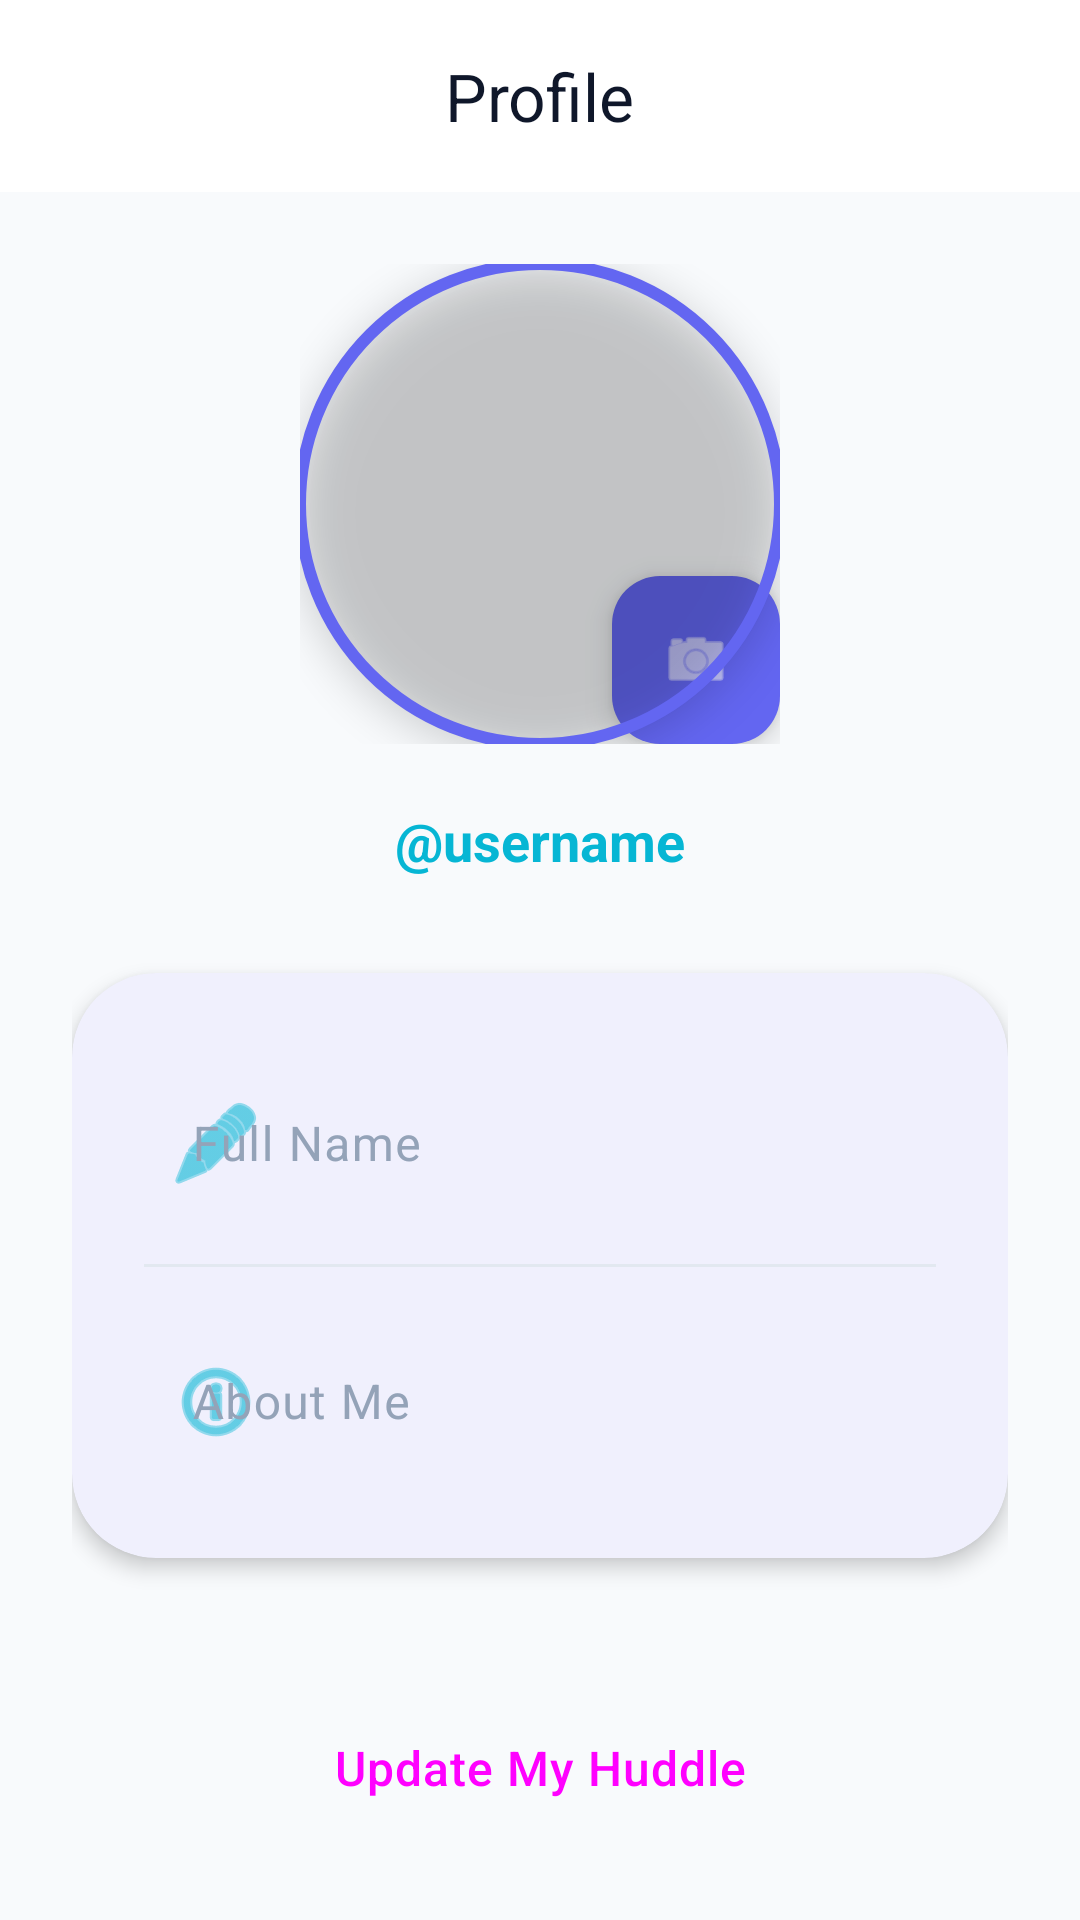

Named icons in this screenshot (1080*1920) and their centers, (x,y):
camera: (696,660)
